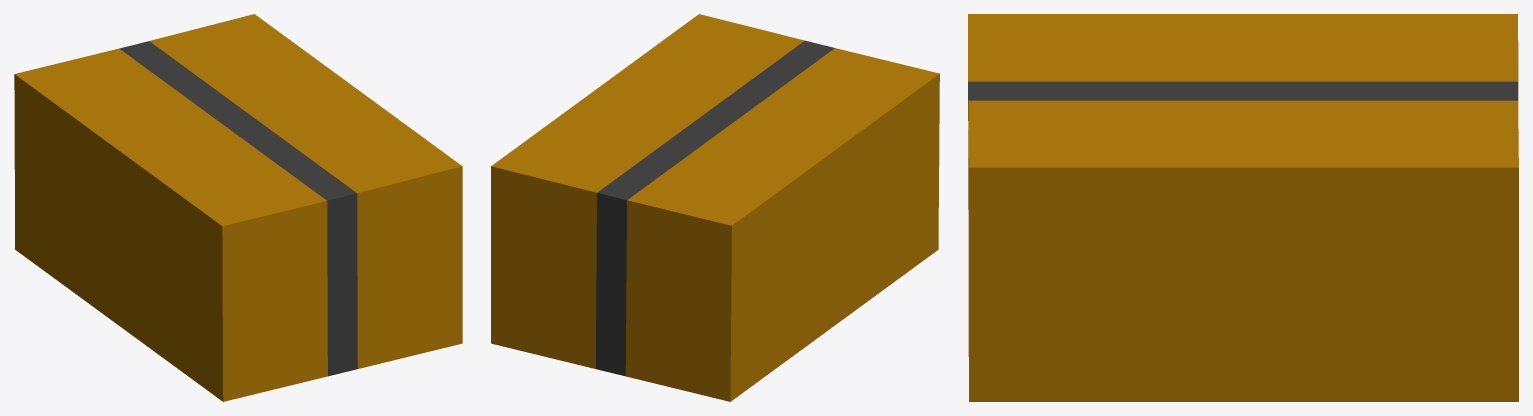
File: CardBox.fbx
3 renders of one model, left to right at view 1: azimuth 30°, elevation 25°; view 2: azimuth 150°, elevation 25°; view 3: azimuth 270°, elevation 25°, orthographic. The views are drawn at different scales.
Visible parts, largest first — view 1: pCube38; view 2: pCube38; view 3: pCube38.
Part boxes in pixels (left/top/right/bottom): pCube38: left=14, top=14, right=462, bottom=401; pCube38: left=491, top=14, right=939, bottom=401; pCube38: left=968, top=14, right=1518, bottom=401.
Bounding box in the file's own units: 1.76 × 1.24 × 2.64.
